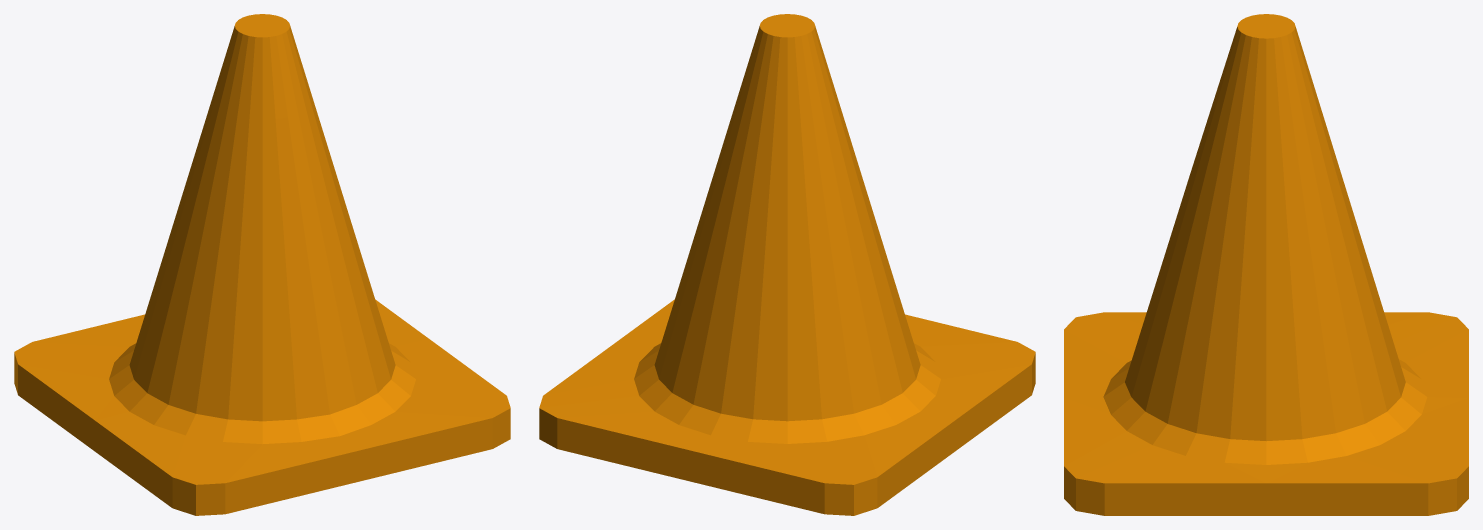
Rendered from Hat_ParkingCone.fbx.
3 views of the same model, side by side, from view 1: azimuth 30°, elevation 25°; view 2: azimuth 150°, elevation 25°; view 3: azimuth 270°, elevation 25° (orthographic). The views are drawn at different scales.
Visible parts, largest first — view 1: Hat_ParkingCone; view 2: Hat_ParkingCone; view 3: Hat_ParkingCone.
Boxes of the visible parts, x1,y1,x2,y2 form: Hat_ParkingCone: (14, 14, 510, 515); Hat_ParkingCone: (539, 14, 1035, 515); Hat_ParkingCone: (1064, 14, 1468, 515).
Size of the model in its own units: 2.41 by 2.66 by 2.41.
